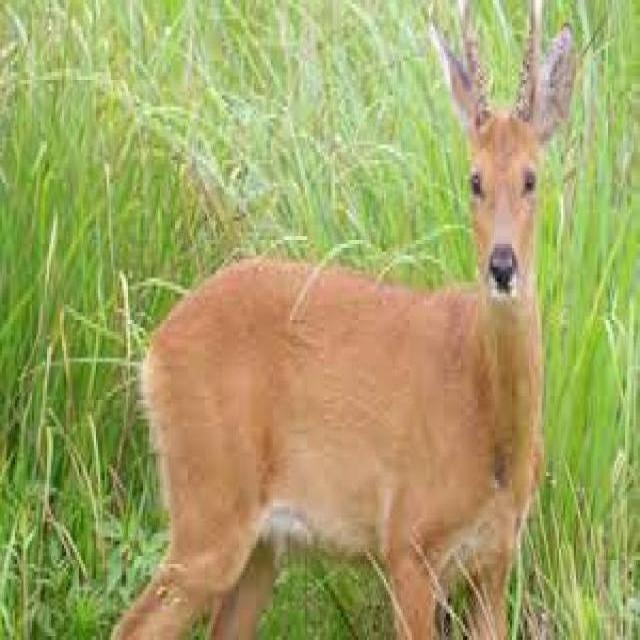deer: (111, 0, 586, 640)
